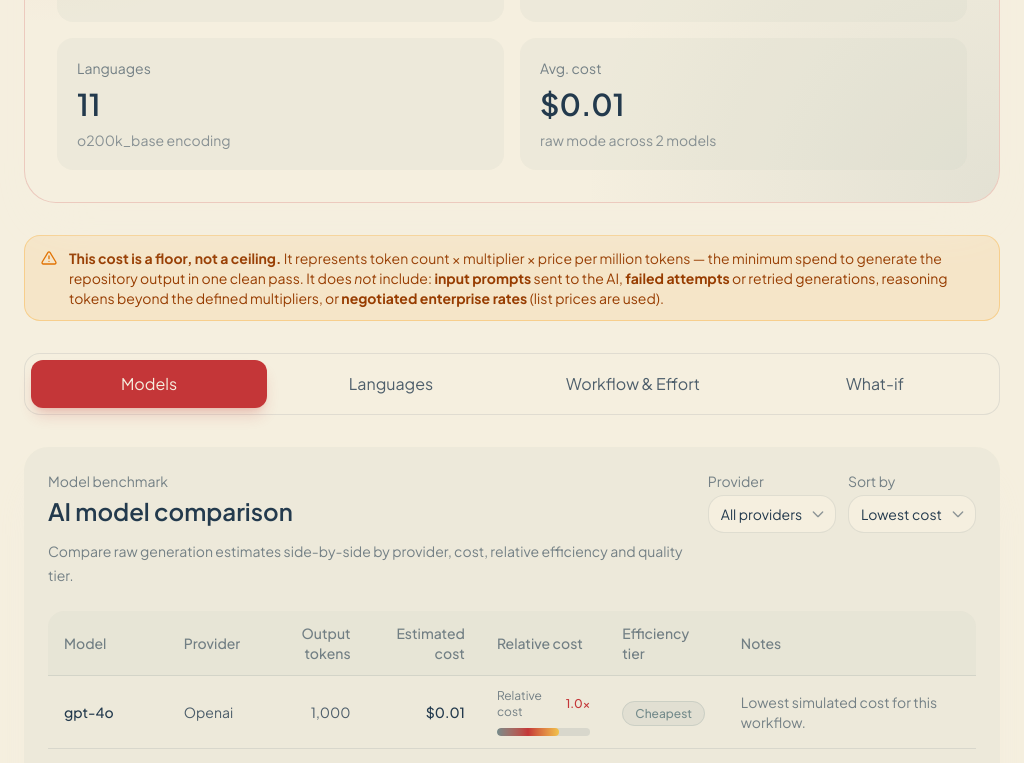
Test: DashboardPage ResultsView tabs › languages show-all toggle: top 8 shown by default when >8 languages exist
The width and height of the screenshot is (1024, 763).
(page scrolled)
Note: Switch to Languages tab
Click the tab "Languages": (391, 384) [273,360,509,408]
(page scrolled)
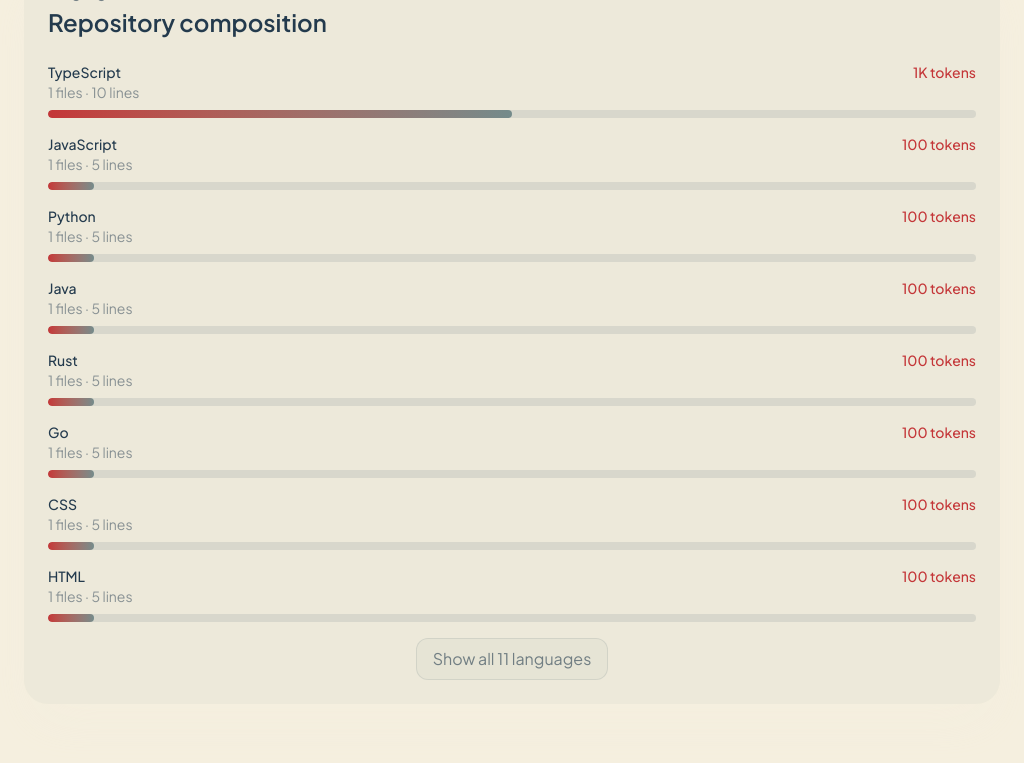
Expected: the button "Show all 11 languages" is shown, [416,638,608,680]
